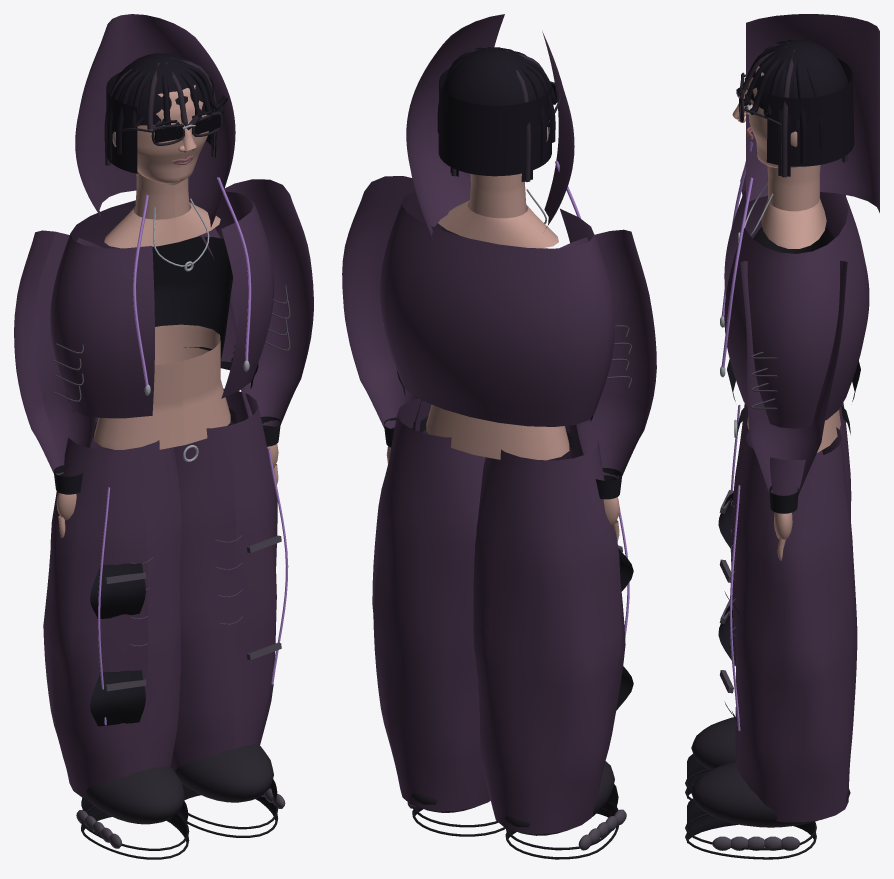
Rendered from look-8-crowd.glb.
The picture shows the model from 3 angles, left to right: view 1: azimuth 30°, elevation 25°; view 2: azimuth 150°, elevation 25°; view 3: azimuth 270°, elevation 25°; orthographic projection. The views are drawn at different scales.
Visible parts, largest first — view 1: look-8-crowd, leg-0, leg-1, arm-1, arm-0; view 2: look-8-crowd, leg-0, leg-1, arm-0, arm-1; view 3: look-8-crowd, leg-1, arm-1, leg-0.
Boxes of the visible parts, x1=… form: look-8-crowd: x1=50, y1=14, x2=274, y2=461; leg-0: x1=43, y1=417, x2=189, y2=859; leg-1: x1=170, y1=388, x2=288, y2=837; arm-1: x1=200, y1=179, x2=313, y2=484; arm-0: x1=14, y1=230, x2=103, y2=537; look-8-crowd: x1=380, y1=14, x2=615, y2=460; leg-0: x1=473, y1=425, x2=633, y2=859; leg-1: x1=372, y1=398, x2=505, y2=836; arm-0: x1=560, y1=229, x2=656, y2=541; arm-1: x1=342, y1=176, x2=457, y2=463; look-8-crowd: x1=720, y1=14, x2=879, y2=452; leg-1: x1=685, y1=427, x2=857, y2=859; arm-1: x1=740, y1=260, x2=847, y2=560; leg-0: x1=685, y1=402, x2=851, y2=800.
Size of the model in its own units: 0.8162 by 2.08 by 0.4647.
